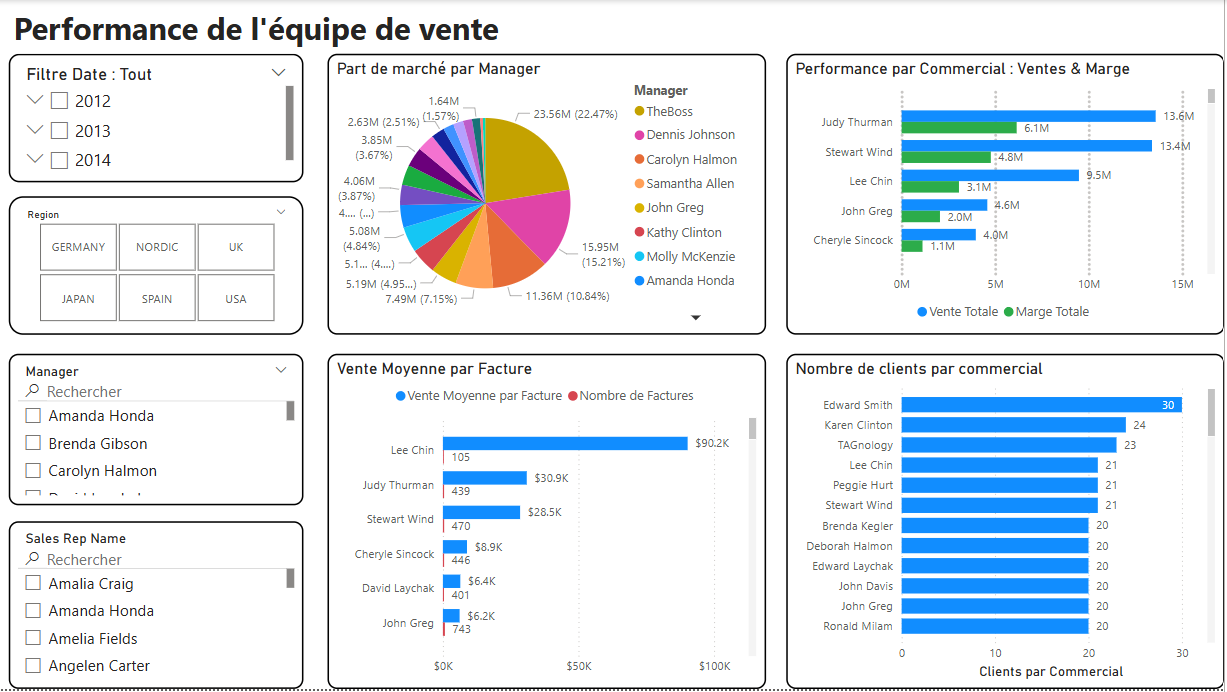

What the dashboard file says about the page in this screenshot:
{"tool":"powerbi","page":{"name":"Equipe de vente","canvas":[1280,720],"ordinal":3},"visuals":[{"type":"slicer","fields":{"Values":["SalesOrder.Year Hiérarchie Custom.Year","SalesOrder.Year Hiérarchie Custom.Quarter","SalesOrder.Year Hiérarchie Custom.Month","SalesOrder.Year Hiérarchie Custom.Week"]},"box":[9.1,56.2,308.3,134.6],"z":0},{"type":"slicer","fields":{"Values":["Regions.Region"]},"box":[9.1,205.1,308.3,145],"z":1000},{"type":"textbox","box":[9.1,2.6,563.1,53.6],"z":2000},{"type":"slicer","fields":{"Values":["SalesTeam.Sales Rep Name"]},"box":[9.1,544.8,308.3,175.1],"z":3000},{"type":"slicer","fields":{"Values":["SalesTeam.Manager"]},"box":[9.1,369.7,308.3,158.1],"z":4000},{"type":"clusteredBarChart","title":"Performance par Commercial : Ventes & Marge","fields":{"Category":["SalesTeam.Sales Rep Name"],"Y":["SalesOrder.Vente Totale","SalesOrder.Marge Totale"]},"box":[821.7,56.2,458.5,293.9],"z":5000},{"type":"barChart","title":"Nombre de clients par commercial","fields":{"Category":["SalesTeam.Sales Rep Name"],"Y":["Customers.Clients par Commercial"]},"box":[821.7,369.7,458.5,350.1],"z":6000},{"type":"clusteredBarChart","title":"Vente Moyenne par Facture","fields":{"Category":["SalesTeam.Sales Rep Name"],"Y":["SalesOrder.Vente Moyenne par Facture","SalesOrder.Nombre de Factures"]},"box":[342.3,369.7,458.5,350.1],"z":7000},{"type":"pieChart","title":"Part de marché par Manager","fields":{"Category":["SalesTeam.Manager"],"Y":["SalesOrder.Vente Totale"]},"box":[342.3,56.2,458.5,293.9],"z":8000}]}

Visuals, with their boxes in screenshot pixels (x1, y1, x2, y2), scaled from the page's 1280x720 canvas onto the 1227x692 screenshot:
slicer - SalesOrder.Year Hiérarchie Custom.Year x SalesOrder.Year Hiérarchie Custom.Quarter: select_region(9, 54, 304, 183)
slicer - Regions.Region: select_region(9, 197, 304, 336)
textbox: select_region(9, 2, 549, 54)
slicer - SalesTeam.Sales Rep Name: select_region(9, 524, 304, 691)
slicer - SalesTeam.Manager: select_region(9, 355, 304, 507)
"Performance par Commercial : Ventes & Marge" clusteredBarChart: select_region(788, 54, 1226, 336)
"Nombre de clients par commercial" barChart: select_region(788, 355, 1226, 691)
"Vente Moyenne par Facture" clusteredBarChart: select_region(328, 355, 768, 691)
"Part de marché par Manager" pieChart: select_region(328, 54, 768, 336)
